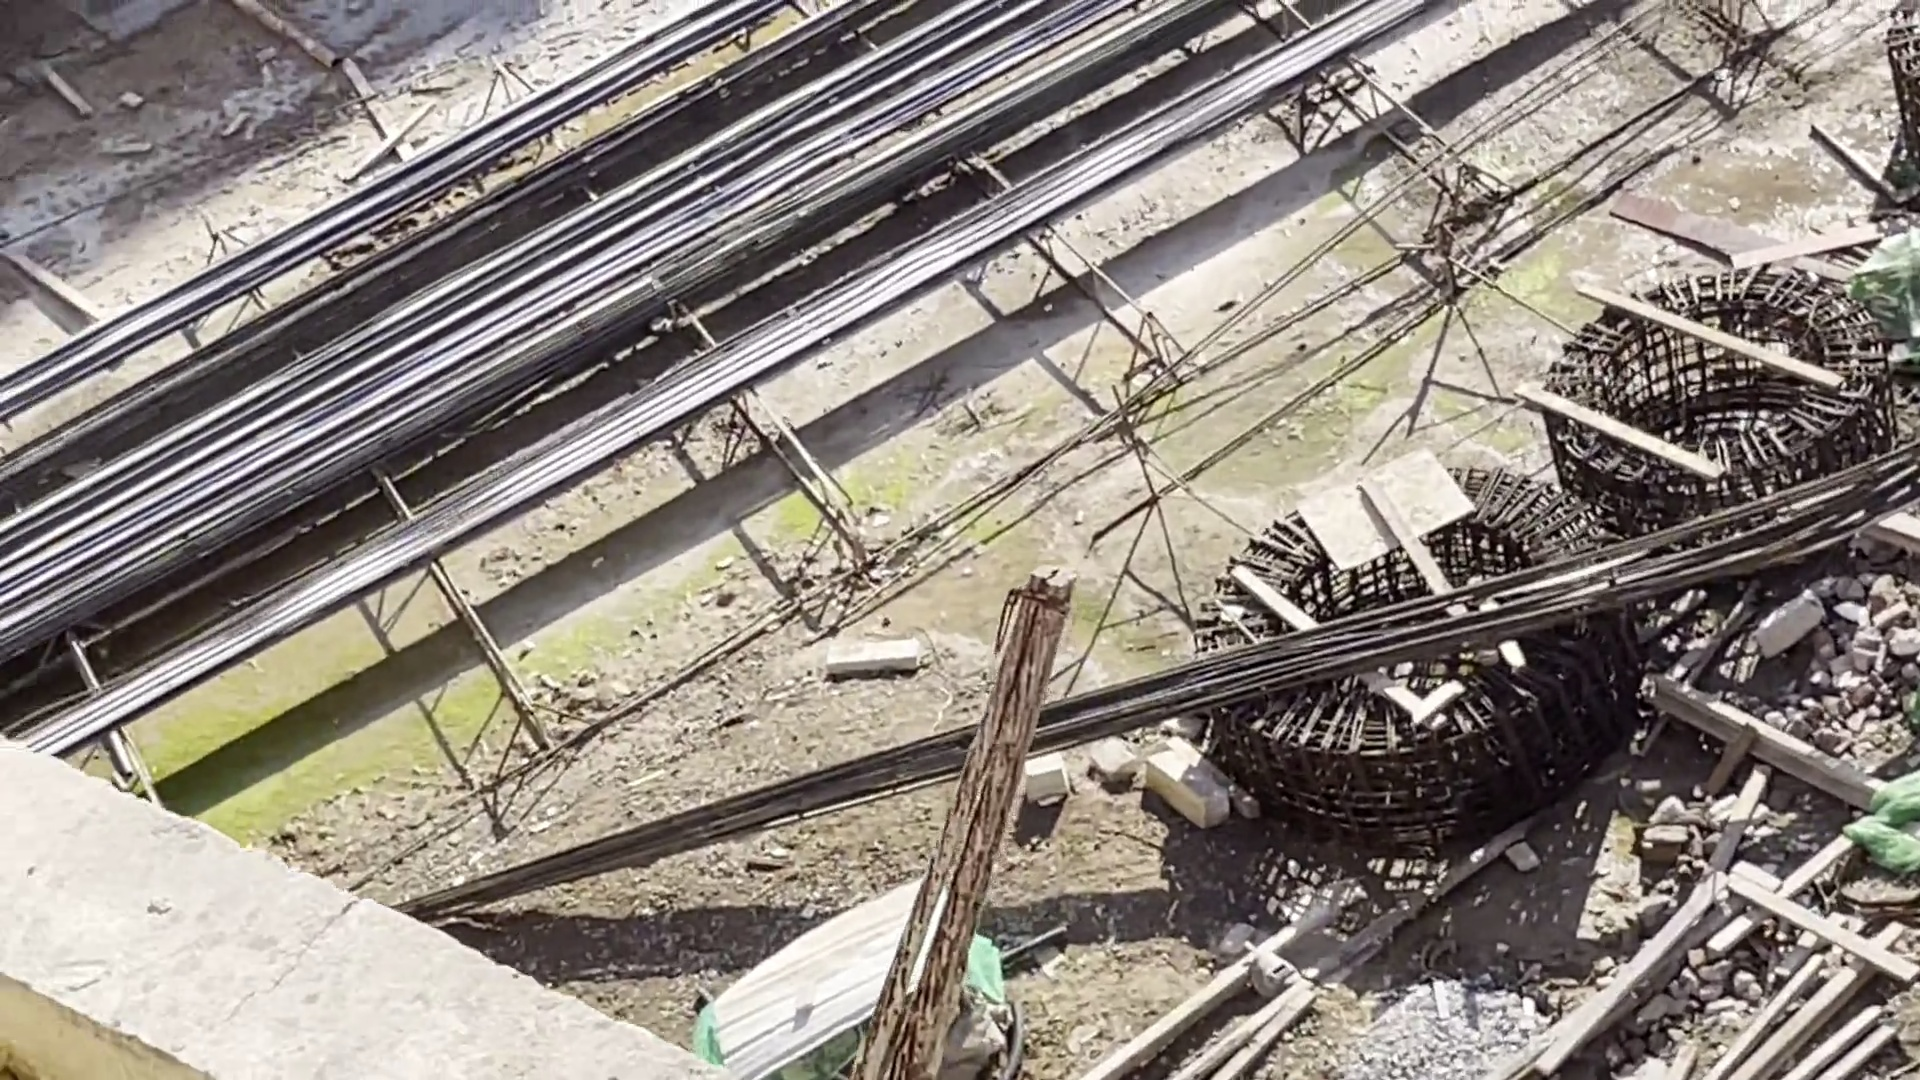rebar: (1, 1, 1427, 760), (397, 460, 1920, 924)
